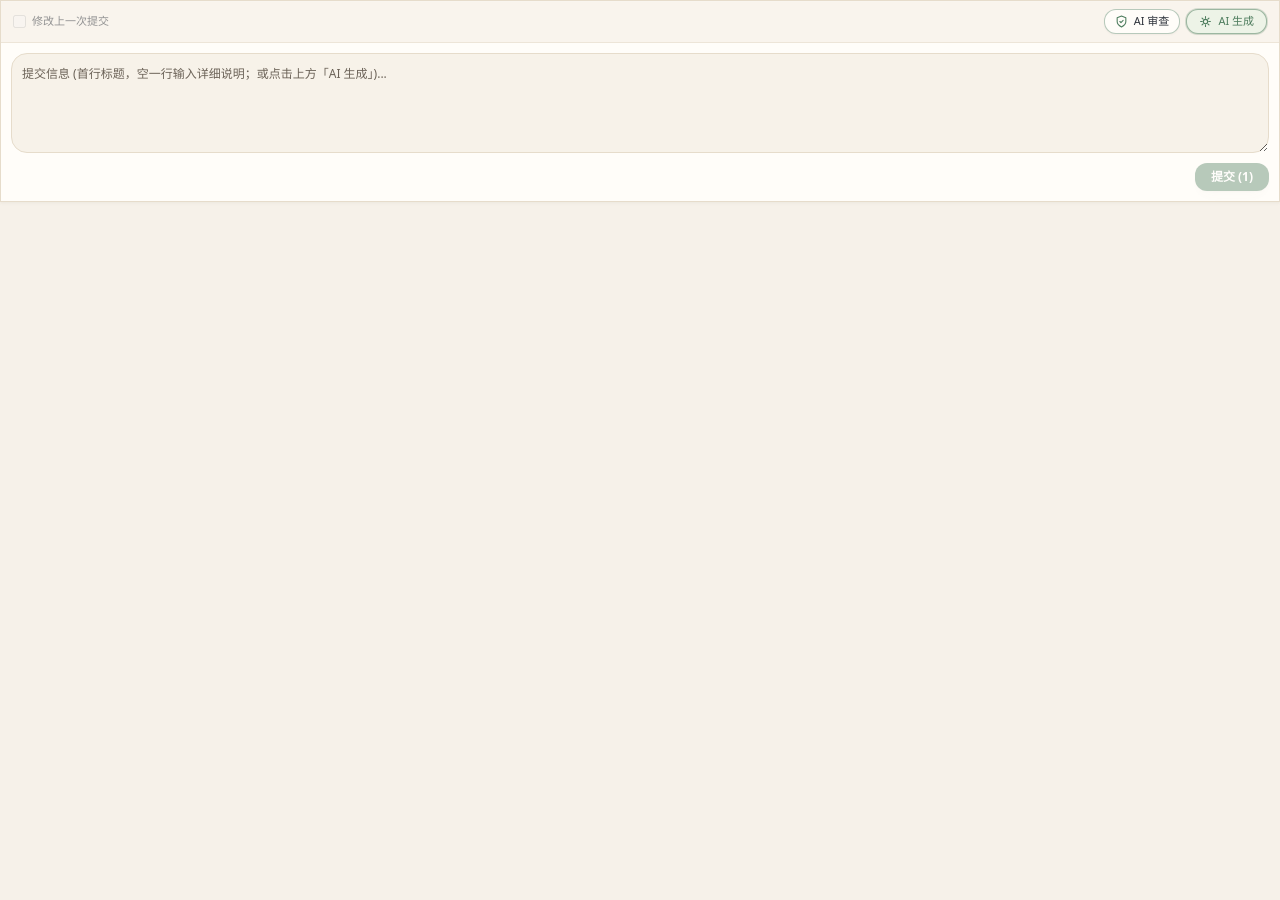
Test case: CommitPanel component › AT-06e: shows IdentityModal when user identity is unconfigured
Type "feat: initial" into the text box with placeholder "提交信息 (首行标题，空一行输入详细说明；或点击上方「AI 生成」)..." at (640, 103), box [11,53,1269,153]
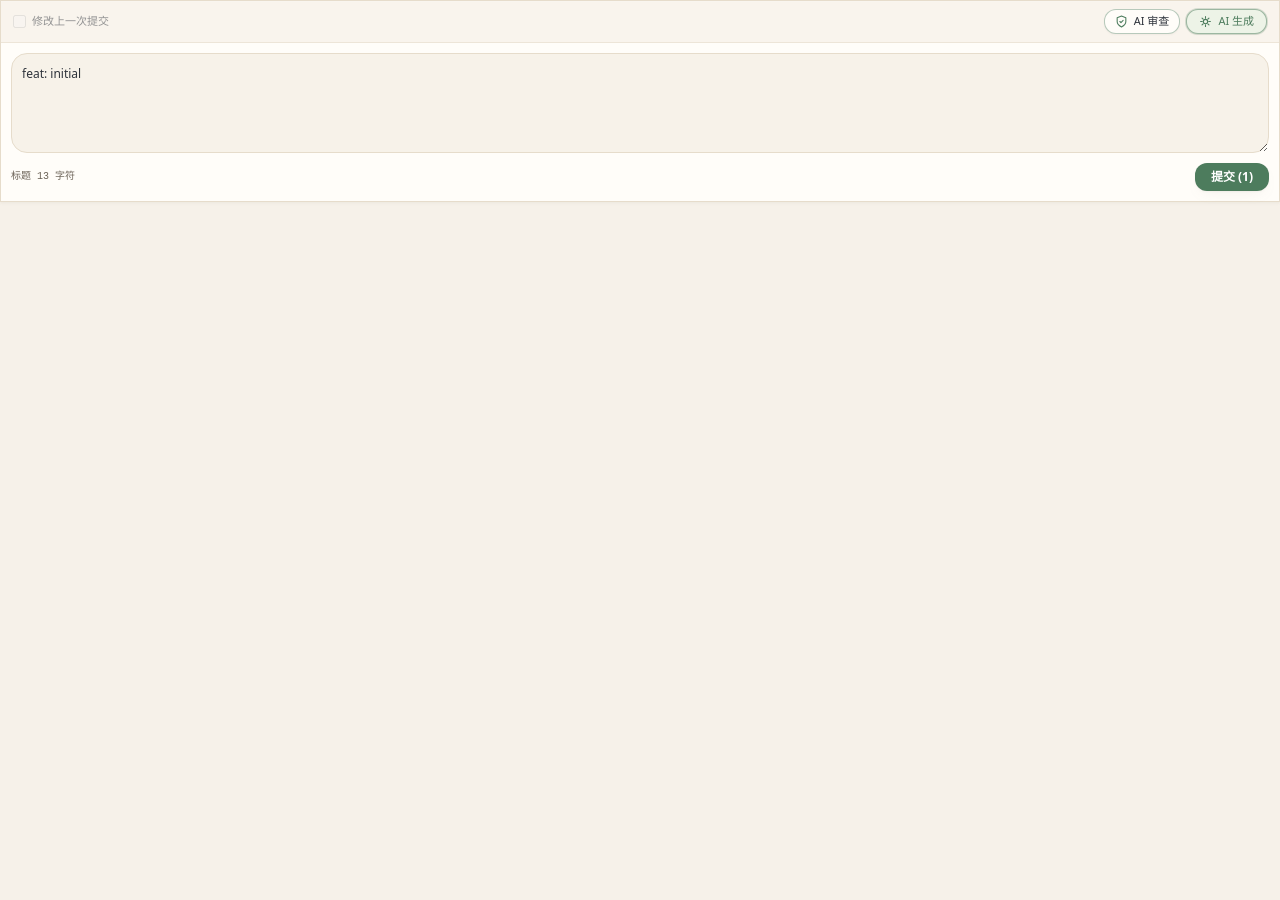
Click the button "提交 (1)" at (1232, 177), box [1195,163,1269,191]
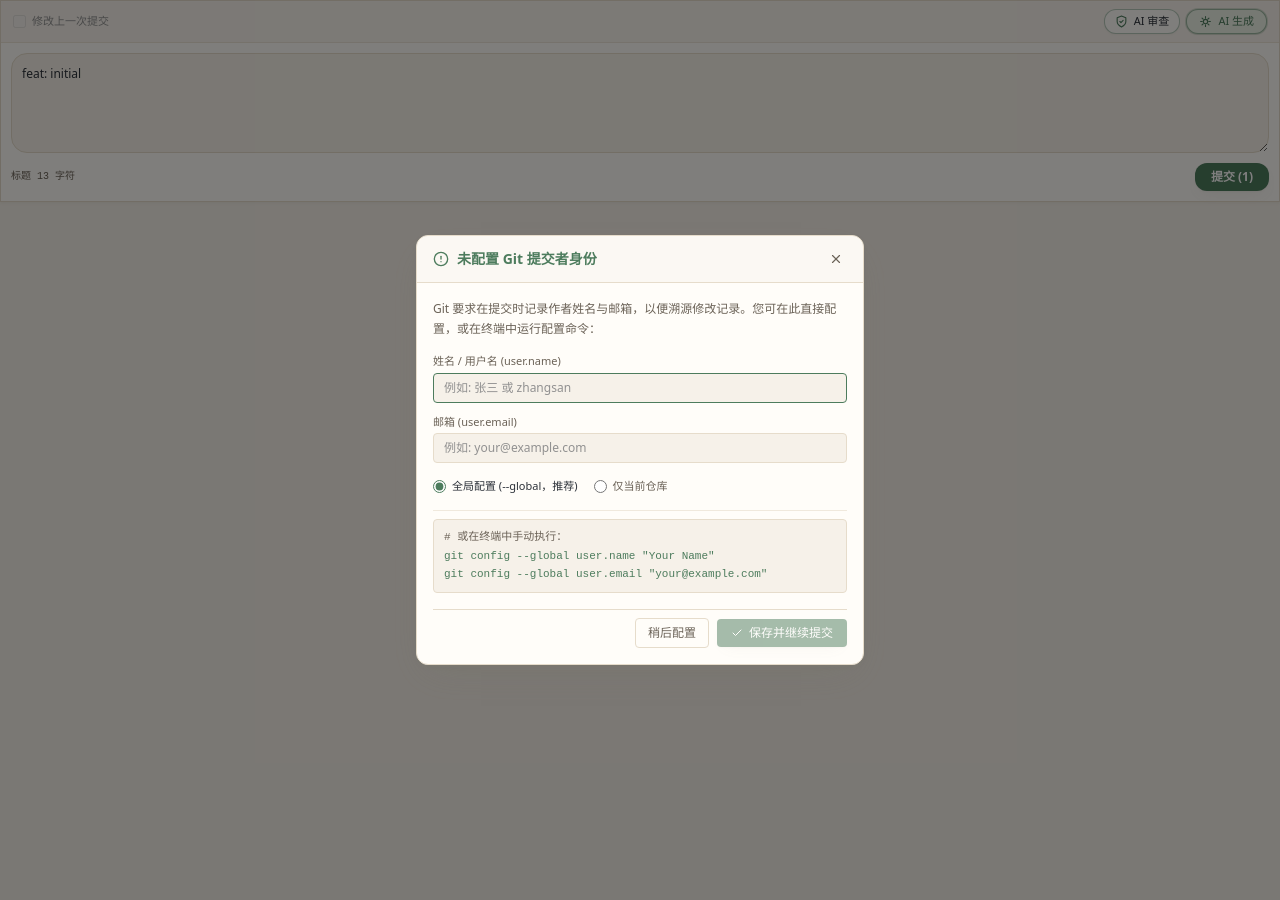
Expected: the text "未配置 Git 提交者身份" is shown, [457,249,597,269]
Expected: the text "git config --global user.name \"Your Name\"" is shown, [444,550,715,562]
